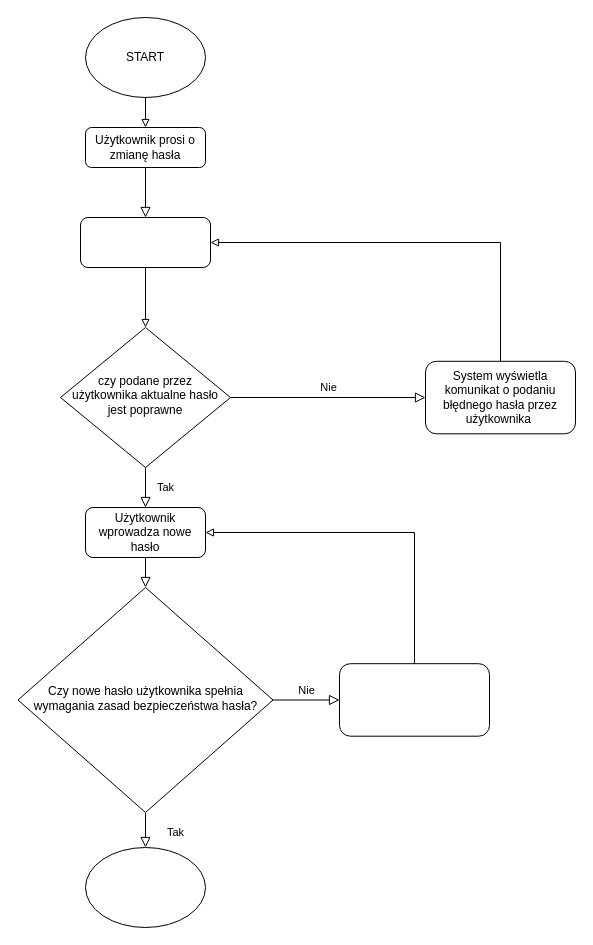
This 593x945 diagram has some shape labels left out. Here are the shapes that lost their labels. From the top down, the centre of each, then its label:
(145,242): Użytkownik wprowadza aktualne hasło
(414,699): System wyświetla komunikat o braku spełnienia wymagań bezpieczeństwa
(145,887): Koniec
